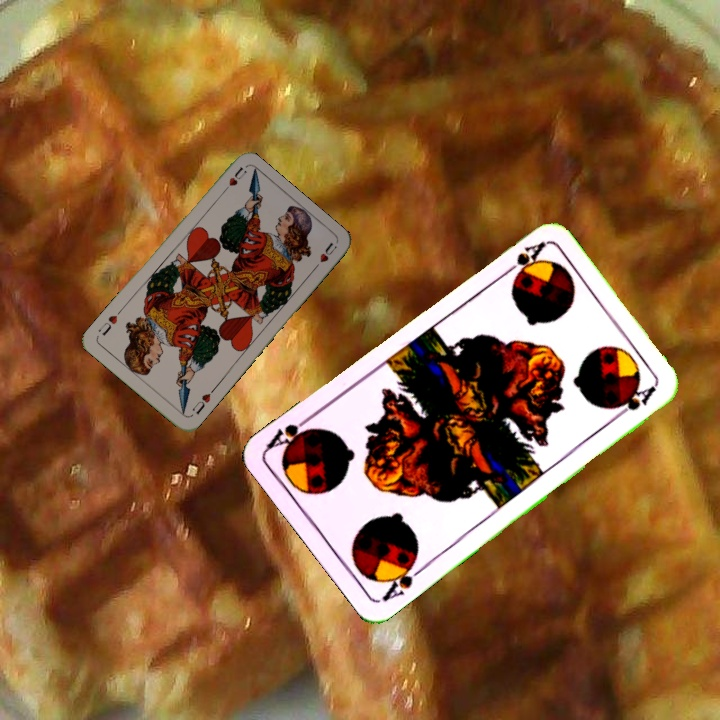HU: (217, 163, 249, 197), (188, 385, 217, 417)
SA: (378, 553, 428, 604), (497, 238, 547, 281)
